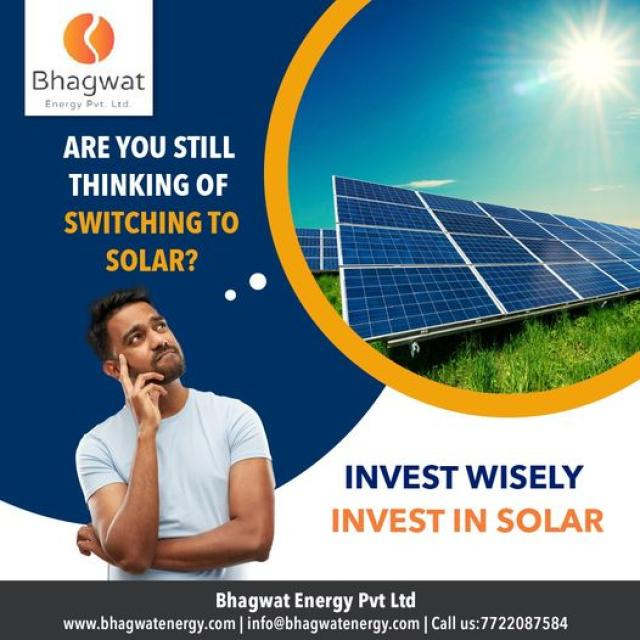clean-solar-panel: (334, 178, 640, 340)
